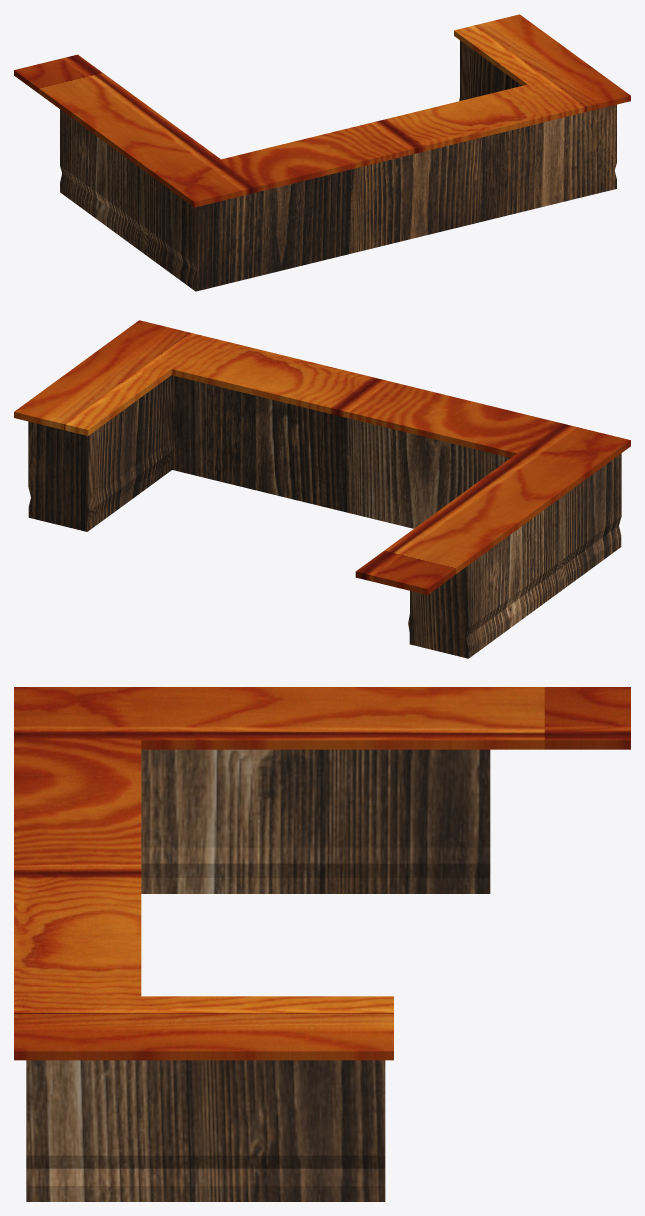
File: barra.fbx
3 views of the same model, one above another, from view 1: azimuth 30°, elevation 25°; view 2: azimuth 150°, elevation 25°; view 3: azimuth 270°, elevation 25° (orthographic). The views are drawn at different scales.
Parts seen in each view (by area): view 1: base, barra; view 2: base, barra; view 3: base, barra.
Boxes of the visible parts, <box> form: base: <box>60,40,616,291</box>; barra: <box>14,14,630,207</box>; base: <box>28,375,621,658</box>; barra: <box>14,320,630,594</box>; base: <box>26,749,490,1201</box>; barra: <box>14,687,630,1060</box>.
Size of the model in its own units: 168 by 34.25 by 120.
